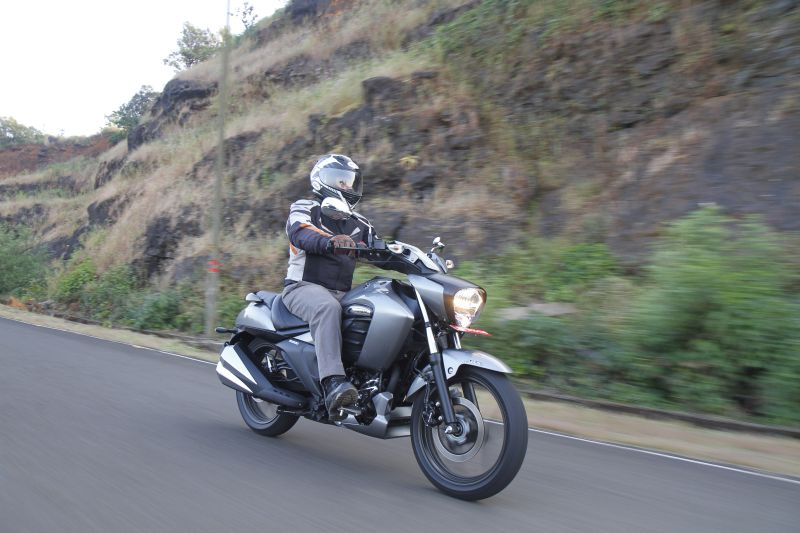helmet: (314, 152, 361, 202)
